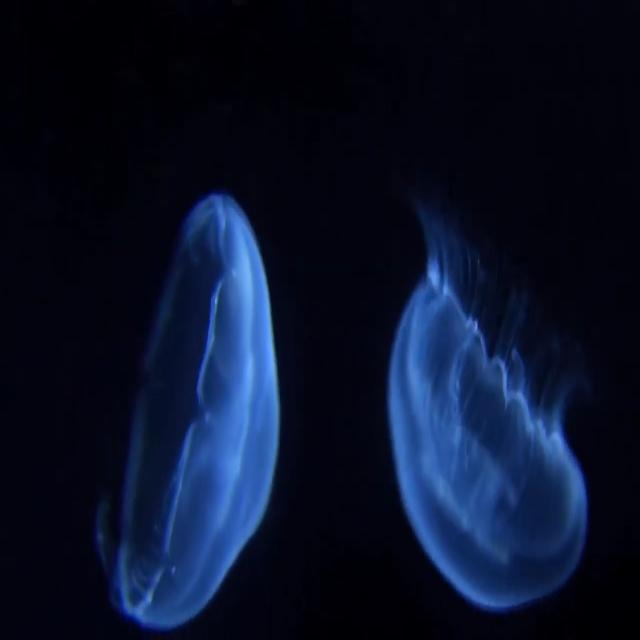Moon-jellyfish: (96, 194, 280, 629), (388, 252, 586, 609), (494, 457, 500, 471), (198, 302, 202, 311)
